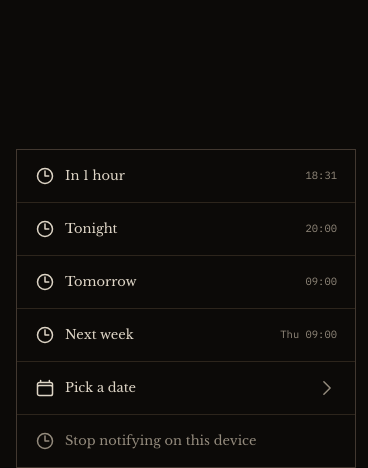
Test: the reminder panel's date picker › steps the time a quarter of an hour
Click the menu item "Pick a date": {"x": 101, "y": 387} [17,361,355,414]
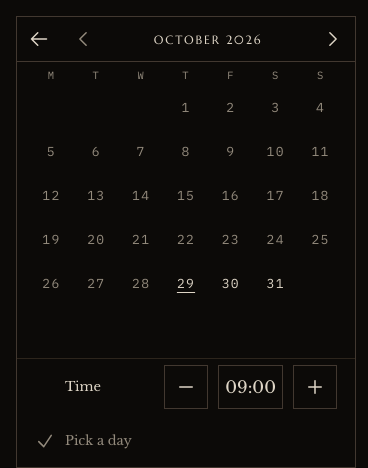
Expected: the element named "Day" is shown, [17,86,355,358]
Click the button named "Later": {"x": 315, "y": 387} [293,365,337,409]
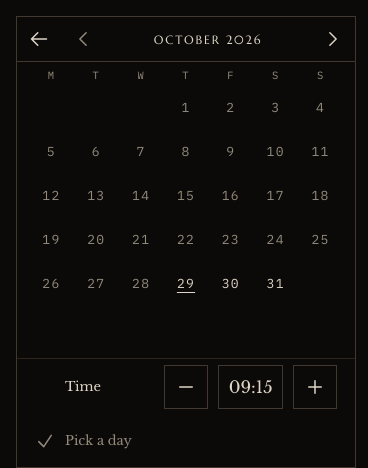
Expected: the field named "Reminder time" holds "09:15", [218,365,283,409]
Click the button named "Earlier": {"x": 186, "y": 387} [164,365,208,409]
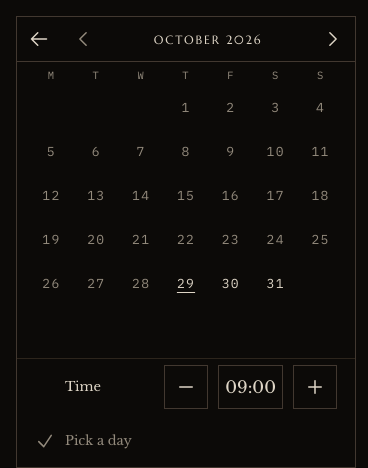
Click the button named "Earlier": {"x": 186, "y": 387} [164,365,208,409]
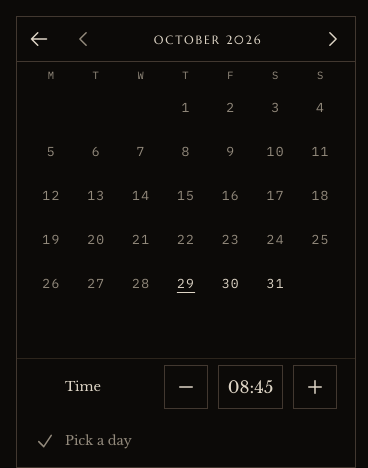
Expected: the field named "Reminder time" holds "08:45", [218,365,283,409]
